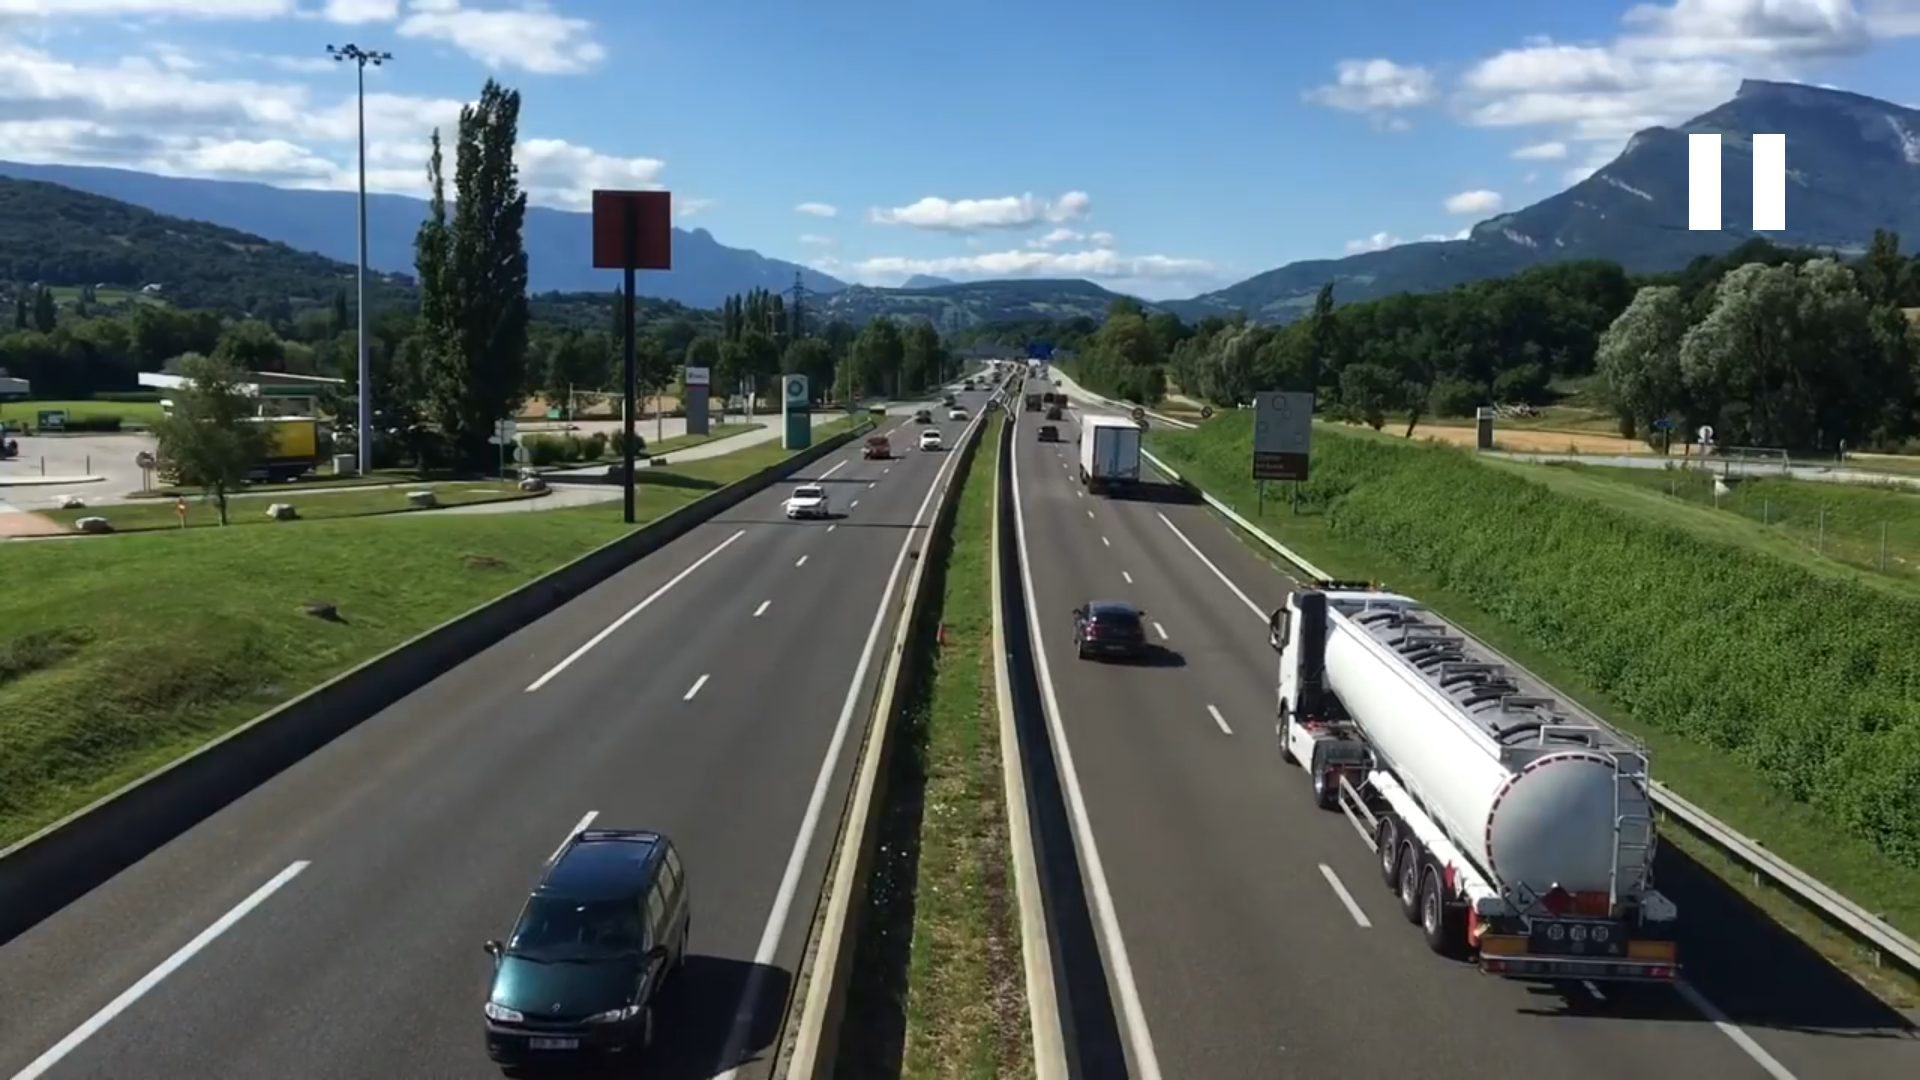HeavyVehicle: (1265, 579, 1698, 1000), (1077, 415, 1145, 495)
LightVehicle: (477, 815, 709, 1080), (1069, 596, 1153, 666)
